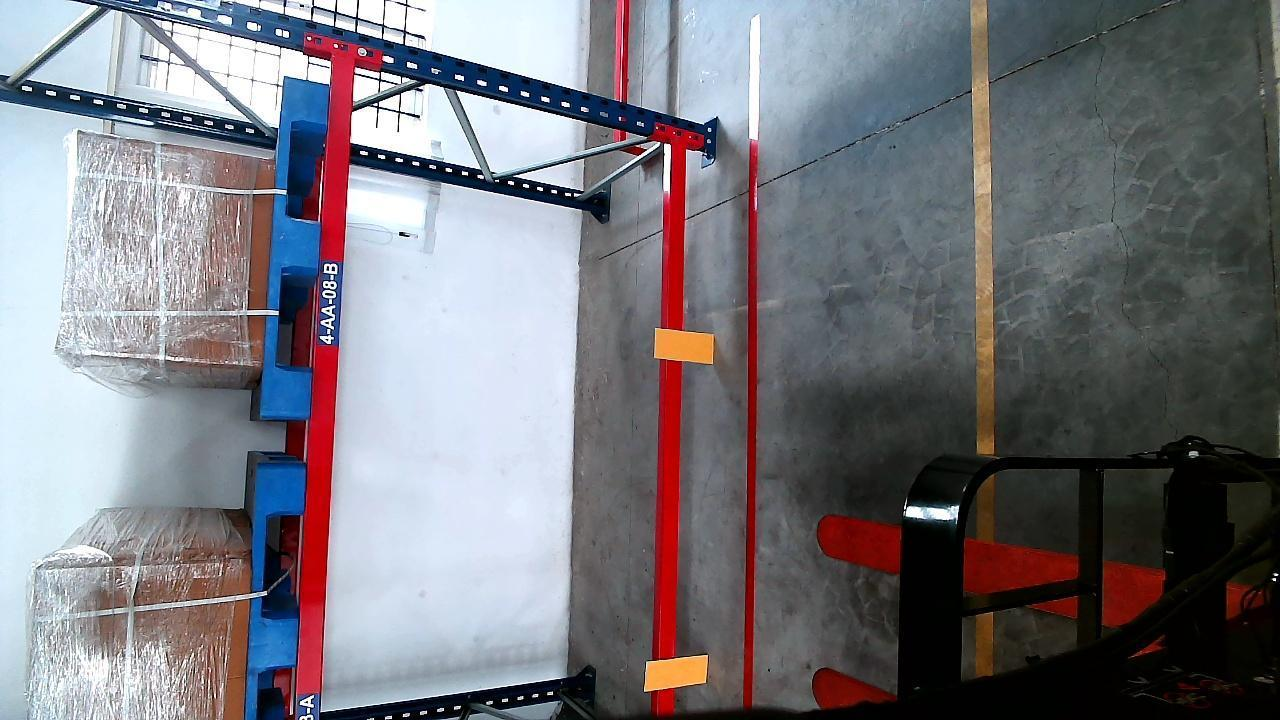h_rack: (291, 57, 353, 720), (652, 148, 688, 715)
orange_strip: (643, 653, 710, 691), (657, 328, 716, 361)
red_line: (743, 138, 762, 701)
small_pallet: (266, 79, 326, 419), (248, 469, 305, 719)
yellow_line: (972, 0, 998, 448)
